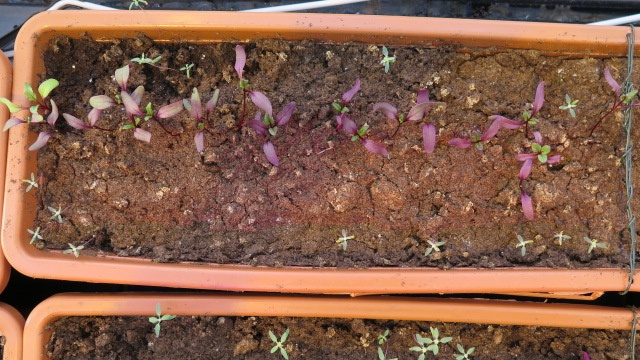crop: (587, 66, 640, 148), (488, 81, 548, 138), (251, 102, 299, 170), (234, 45, 275, 124), (120, 92, 187, 135), (374, 100, 436, 136), (341, 117, 392, 159), (189, 88, 220, 157), (449, 117, 503, 152), (28, 99, 62, 152), (60, 110, 116, 138), (415, 89, 439, 153), (333, 78, 360, 133), (518, 158, 537, 223), (516, 143, 563, 166)
weed: (146, 303, 176, 336), (131, 53, 171, 75), (266, 326, 292, 359), (375, 43, 399, 75), (556, 91, 581, 120), (332, 227, 358, 252), (408, 336, 434, 360), (513, 232, 537, 257), (428, 328, 452, 353), (421, 237, 447, 257), (582, 235, 609, 254), (19, 171, 41, 194), (376, 331, 394, 359), (23, 225, 46, 245), (60, 241, 87, 258), (174, 61, 197, 80), (550, 228, 574, 246), (46, 205, 69, 223), (454, 343, 477, 360)
